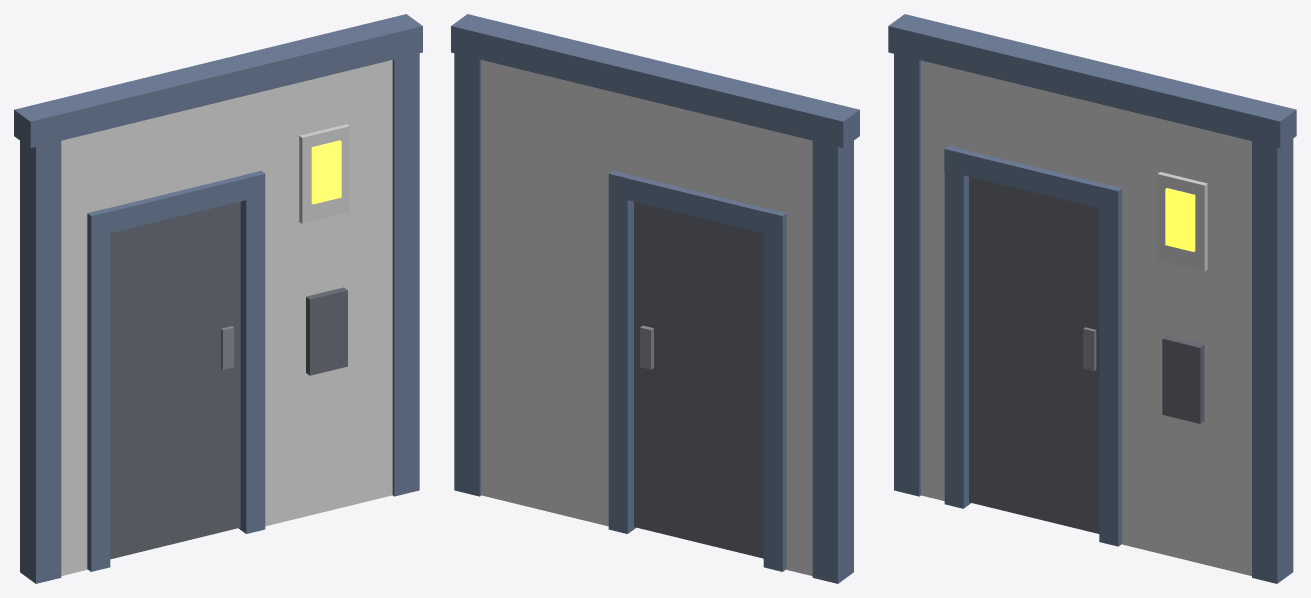
File: 01_wall_door_3.glb
3 renders of one model, left to right at view 1: azimuth 30°, elevation 25°; view 2: azimuth 150°, elevation 25°; view 3: azimuth 330°, elevation 25°, orthographic.
Visible parts, largest first — view 1: Wall_Right, DoorLeaf, part_11, part_10, Wall_Header, part_12, Wall_Left, part_5.002, part_5.001, part_6.001, part_7.001, part_8.001 (+2 smaller); view 2: Wall_Right, DoorLeaf, part_11, part_10, Wall_Header, part_12, Wall_Left, part_5.002, part_5.001, part_6.001, DoorHandle; view 3: Wall_Right, DoorLeaf, part_12, part_10, Wall_Header, part_11, Wall_Left, part_5.001, part_5.002, part_6.001, part_7.001, part_8.001 (+2 smaller).
Boxes of the visible parts, x1,y1,x2,y2 form: Wall_Right: (261, 60, 392, 526); DoorLeaf: (110, 201, 240, 559); part_11: (20, 141, 61, 583); part_10: (14, 14, 422, 147); Wall_Header: (87, 92, 261, 212); part_12: (392, 53, 419, 496); Wall_Left: (61, 134, 87, 575); part_5.002: (238, 170, 265, 533); part_5.001: (87, 208, 110, 571); part_6.001: (91, 174, 265, 237); part_7.001: (306, 287, 347, 375); part_8.001: (299, 124, 349, 223); Wall_Right: (481, 60, 612, 526); DoorLeaf: (634, 201, 763, 558); part_11: (812, 141, 853, 583); part_10: (451, 14, 859, 147); Wall_Header: (612, 92, 786, 212); part_12: (454, 53, 481, 496); Wall_Left: (786, 134, 812, 575); part_5.002: (608, 170, 635, 533); part_5.001: (763, 208, 786, 571); part_6.001: (608, 174, 782, 237); DoorHandle: (640, 325, 653, 369); Wall_Right: (1122, 109, 1251, 575); DoorLeaf: (969, 176, 1099, 533); part_12: (1252, 139, 1293, 583); part_10: (888, 14, 1296, 147); Wall_Header: (948, 67, 1122, 187); part_11: (894, 54, 920, 496); Wall_Left: (921, 60, 948, 500); part_5.001: (944, 146, 970, 508); part_5.002: (1099, 183, 1122, 546); part_6.001: (944, 149, 1122, 212); part_7.001: (1162, 335, 1204, 423); part_8.001: (1157, 172, 1207, 271).
Bounding box in the file's own units: 2.64 × 2.99 × 0.25.
